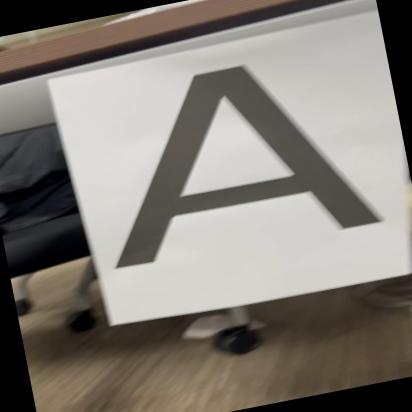seat: (79, 41, 395, 300)
